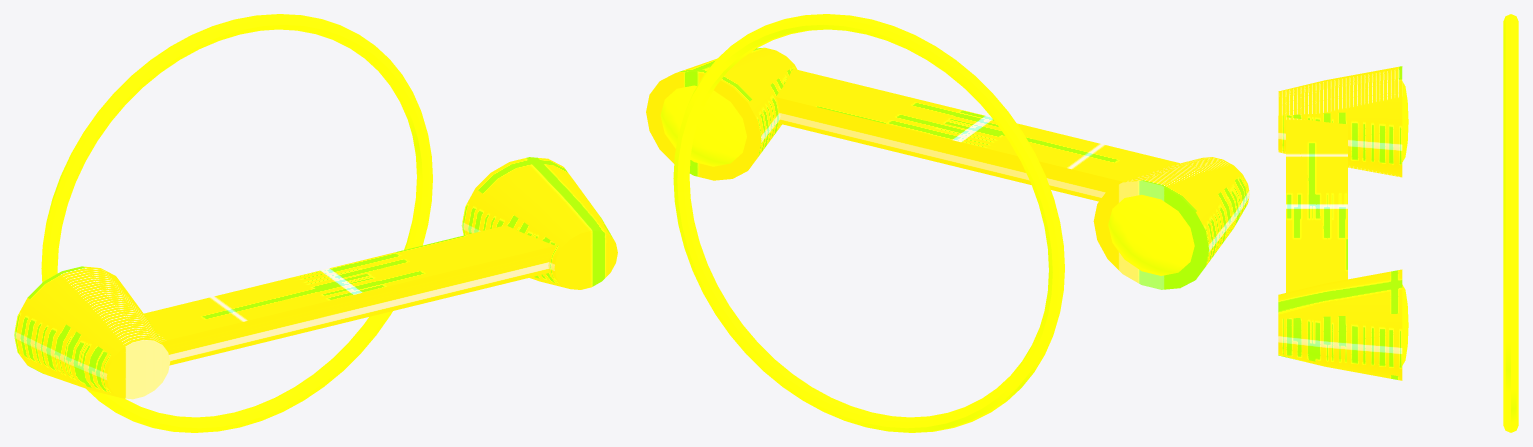
Rendered from ENGINE.glb.
3 views of the same model, side by side, from view 1: azimuth 30°, elevation 25°; view 2: azimuth 150°, elevation 25°; view 3: azimuth 270°, elevation 25° (orthographic). The views are drawn at different scales.
Visible parts, largest first — view 1: ENGINE_01; view 2: ENGINE_01; view 3: ENGINE_01.
Boxes of the visible parts, x1,y1,x2,y2 form: ENGINE_01: (14,14,617,432); ENGINE_01: (646,14,1249,432); ENGINE_01: (1278,14,1518,432).
Bounding box in the file's own units: 3.9 × 2.7 × 1.55.
Materials: 2 (1 with a texture image).
